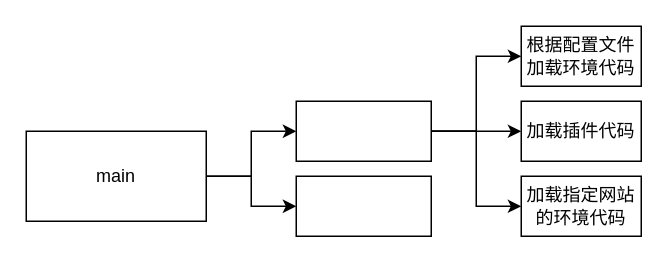
Some shapes in this 668 by 263 pixel diagram are drawn without their labels. The centre of each missing label's shape, as x and y in pixels:
加载代码: (x=363, y=130)
导出指定网站的环境代码: (x=363, y=205)
